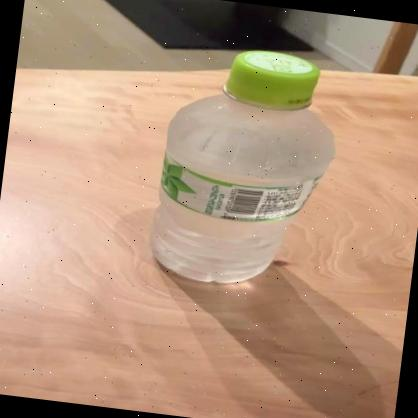bottle: (142, 36, 350, 299)
cap: (217, 43, 326, 113)
label: (160, 154, 330, 230)
